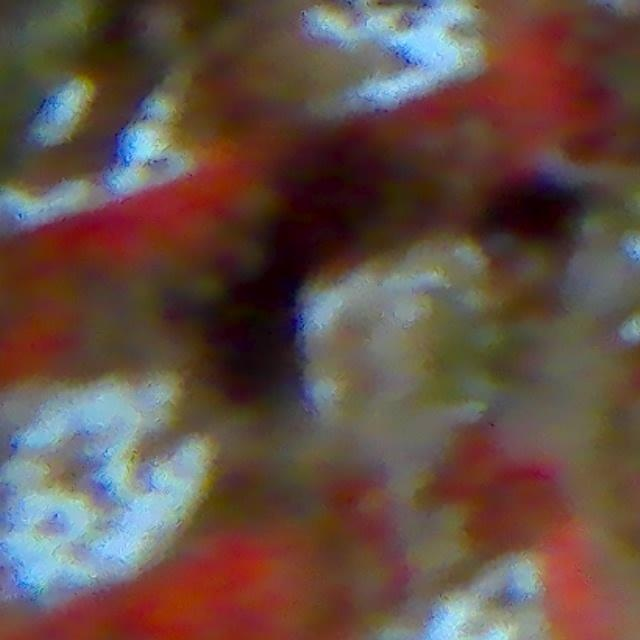SeaGrape: (229, 176, 285, 232), (219, 231, 272, 285)
